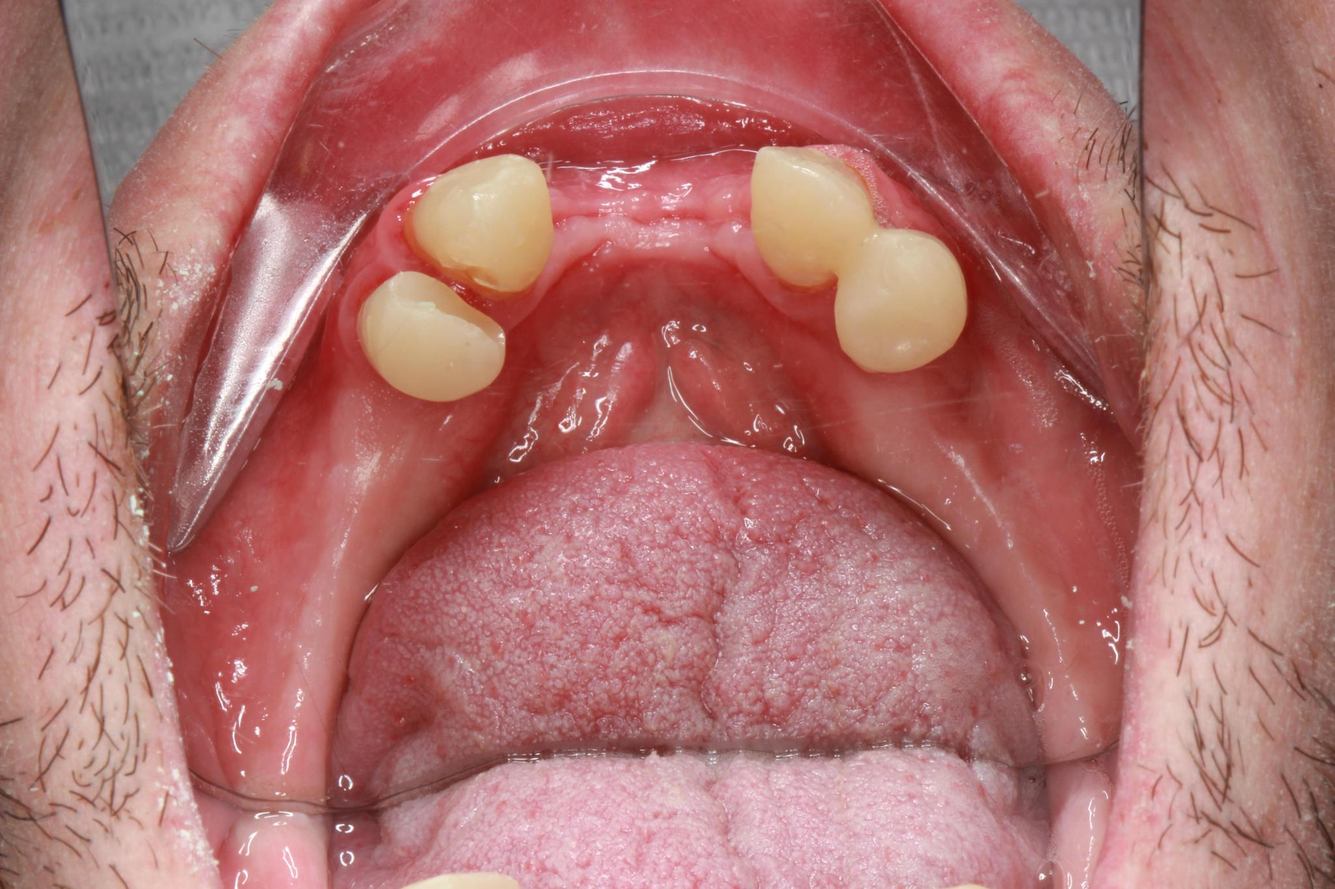Fractured Teeth: (344, 264, 510, 400)
